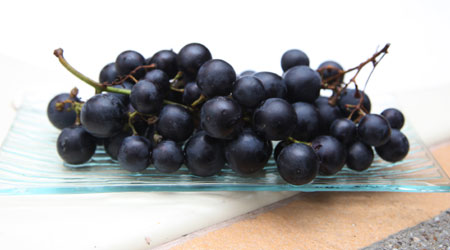Black grapes: (41, 62, 423, 176)
